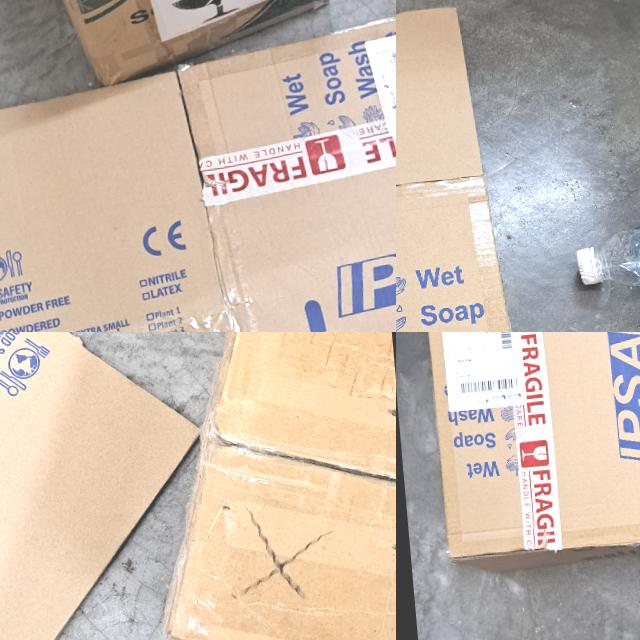garrafa plástica: (587, 167, 640, 290)
papelão: (0, 4, 396, 332), (139, 332, 396, 640), (0, 332, 221, 640), (413, 332, 640, 608), (396, 0, 551, 332), (0, 0, 357, 91)
tampa plástica: (574, 246, 600, 286)
